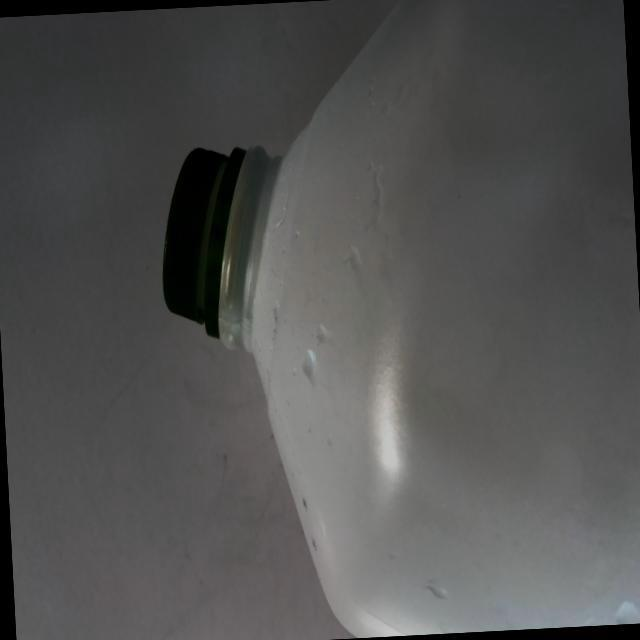plastic: (118, 0, 640, 640)
